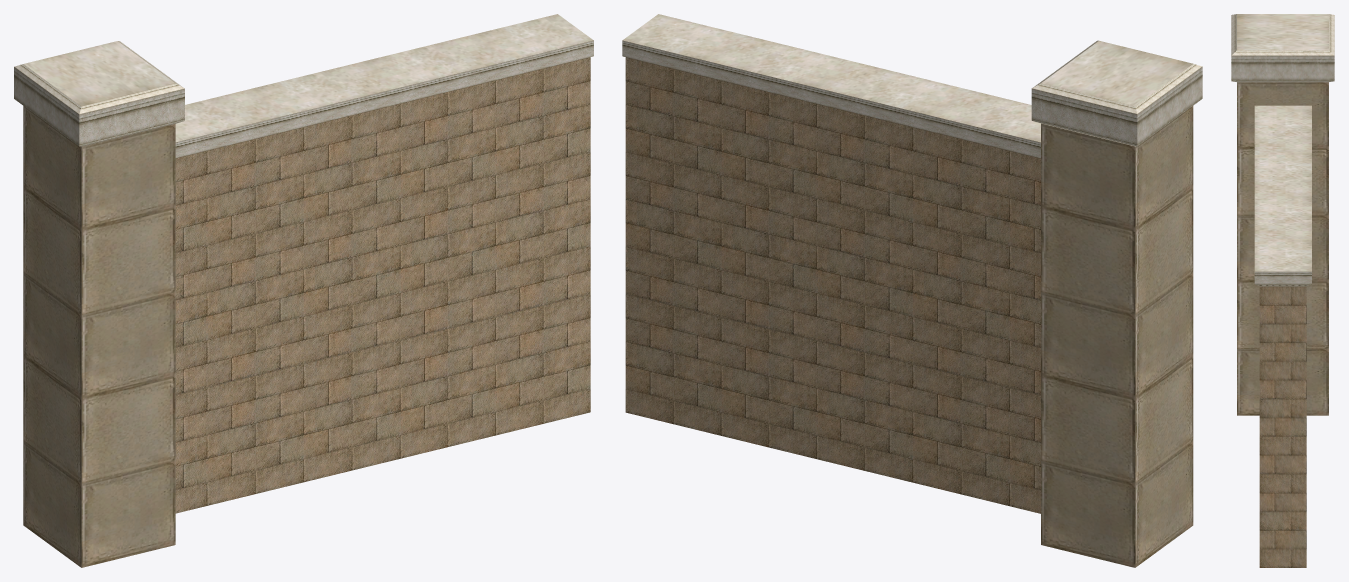
The model's file is thm_nboo_thed_imprv_wallendpiece_s01_a1_l1.fbx.
3 views of the same model, side by side, from view 1: azimuth 30°, elevation 25°; view 2: azimuth 150°, elevation 25°; view 3: azimuth 270°, elevation 25° (orthographic). The views are drawn at different scales.
Visible parts, largest first — view 1: mesh_node; view 2: mesh_node; view 3: mesh_node.
Boxes of the visible parts, bbox=[...] form: mesh_node: bbox=[14, 14, 593, 567]; mesh_node: bbox=[622, 14, 1202, 567]; mesh_node: bbox=[1231, 14, 1334, 567].
Bounding box in the file's own units: 11.41 × 9.5 × 2.43.
1 material, 1 textured.
